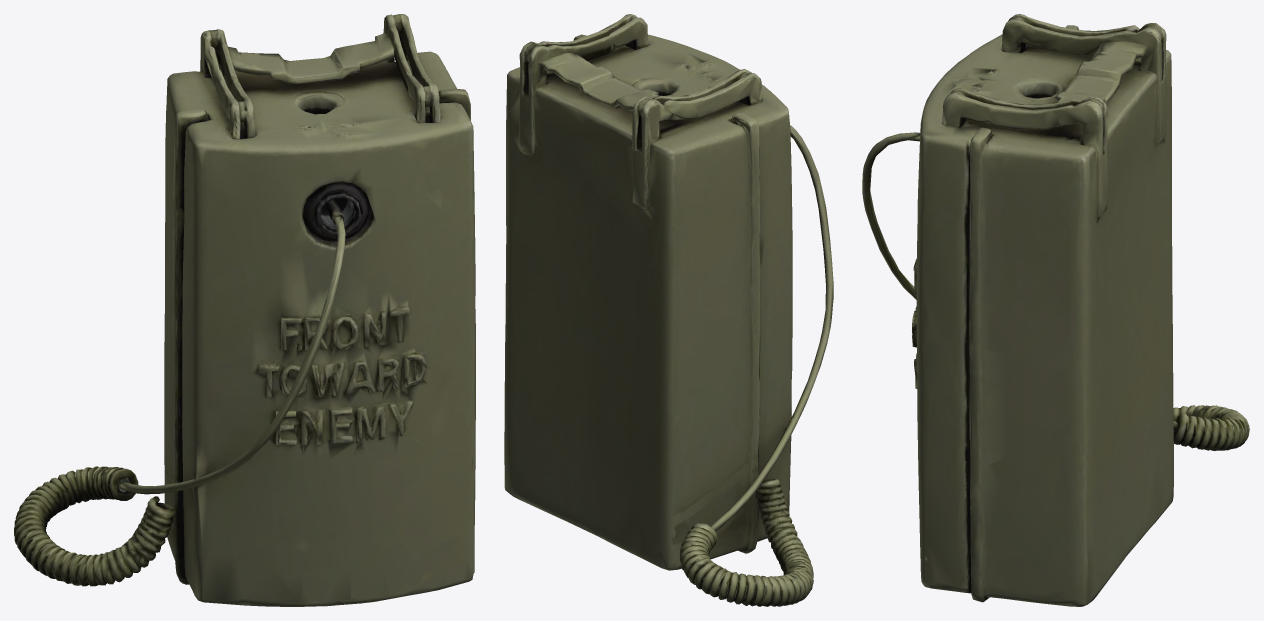
Rendered from grenade.glb.
The picture shows the model from 3 angles, left to right: view 1: azimuth 30°, elevation 25°; view 2: azimuth 150°, elevation 25°; view 3: azimuth 270°, elevation 25°; orthographic projection. The views are drawn at different scales.
Visible parts, largest first — view 1: tripo_node_8c9bff09-3c1a-4946-96d3-a0cd54f27303; view 2: tripo_node_8c9bff09-3c1a-4946-96d3-a0cd54f27303; view 3: tripo_node_8c9bff09-3c1a-4946-96d3-a0cd54f27303.
Boxes of the visible parts, x1,y1,x2,y2 form: tripo_node_8c9bff09-3c1a-4946-96d3-a0cd54f27303: (14, 14, 475, 606); tripo_node_8c9bff09-3c1a-4946-96d3-a0cd54f27303: (504, 14, 833, 606); tripo_node_8c9bff09-3c1a-4946-96d3-a0cd54f27303: (862, 14, 1249, 606).
Bounding box in the file's own units: 0.7488 × 0.9797 × 0.6895.
Materials: 1 (1 with a texture image).
